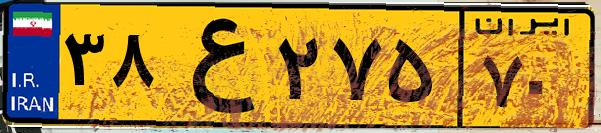0: (525, 38, 570, 115)
2: (270, 28, 330, 110)
3: (57, 26, 110, 100)
5: (385, 28, 445, 110)
7: (330, 28, 385, 110), (475, 38, 525, 113)
8: (110, 28, 158, 98)
ع: (158, 12, 270, 120)
